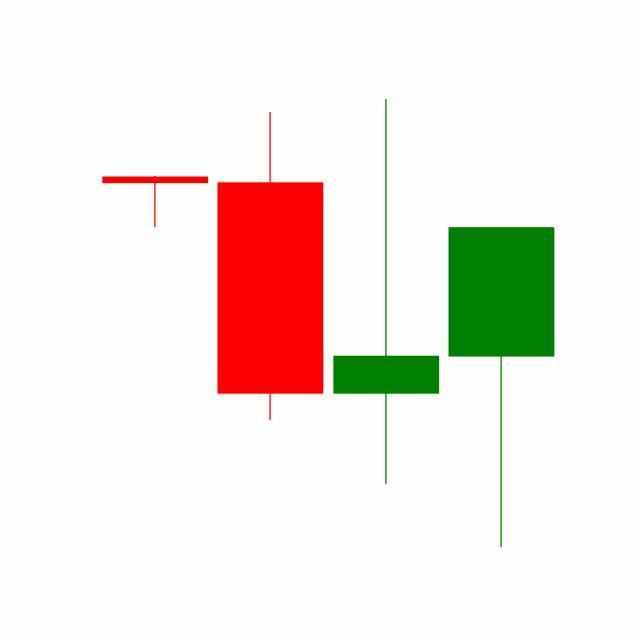Spinning Top: (329, 95, 445, 489)
